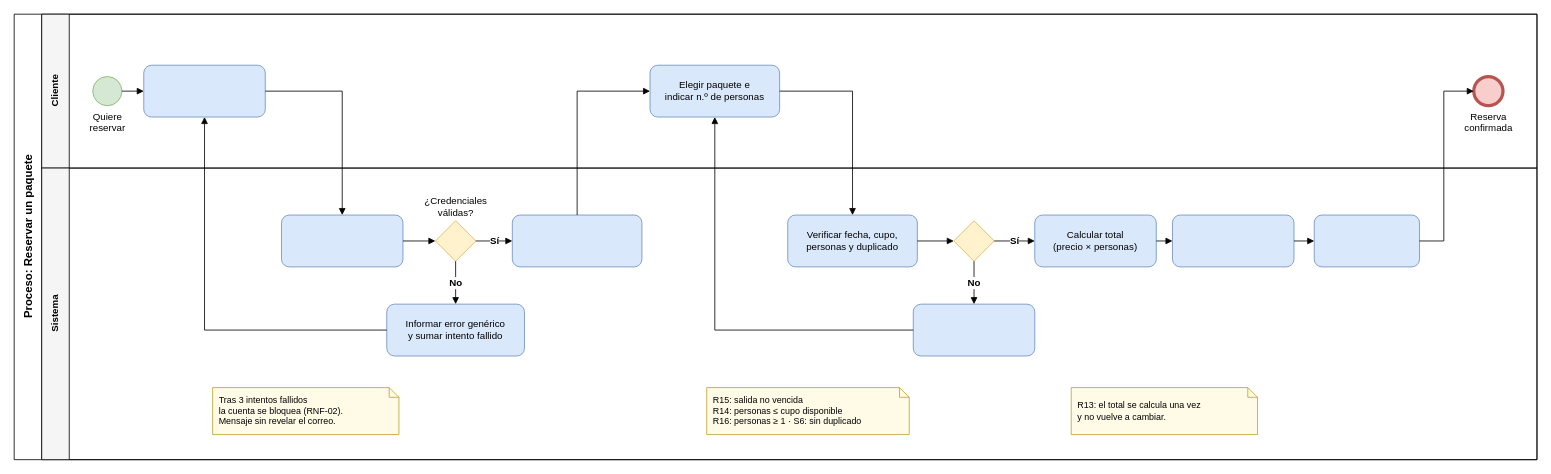
Some shapes in this 1551 by 474 pixel diagram are drawn without their labels. The shapes that lost their labels are listed below. From the top down, each one's centre as x and y in pixels, then its label:
the point at 204,90: Iniciar sesión (correo y contraseña)
the point at 342,240: Validar credenciales (hash + sal)
the point at 577,240: Listar paquetes vigentes con cupo disponible
the point at 973,240: ¿Cumple todas las reglas?
the point at 1233,240: Guardar reserva (estado: confirmada)
the point at 1366,240: Mostrar confirmación
the point at 973,329: Informar motivo del rechazo
